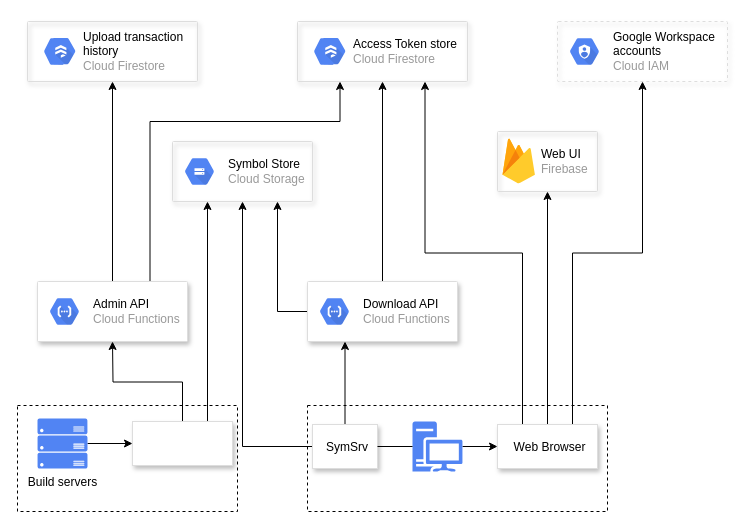
The diagram is 751 pixels wide and 529 high, and some of its shapes have lost their labels. The shapes that lost their labels are listed below. From the top down, each one's centre as x and y in pixels, then its label:
the point at 183,444: Admin CLI
the point at 437,446: Workstations
